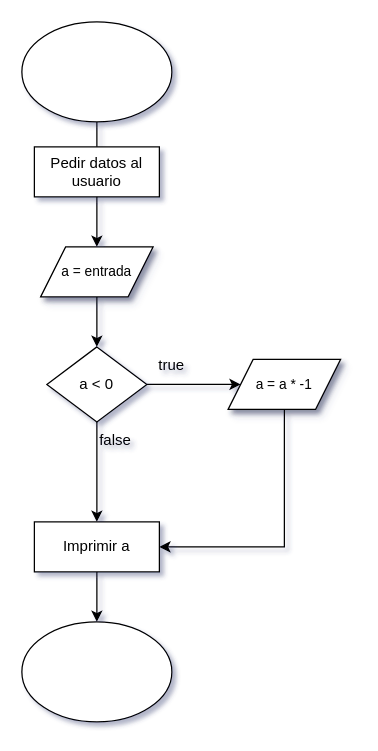
Some shapes in this 378 by 751 pixel diagram are drawn without their labels. The centre of each missing label's shape, as x and y in pixels:
Inicio: the point at 96,71
Termina: the point at 96,671
